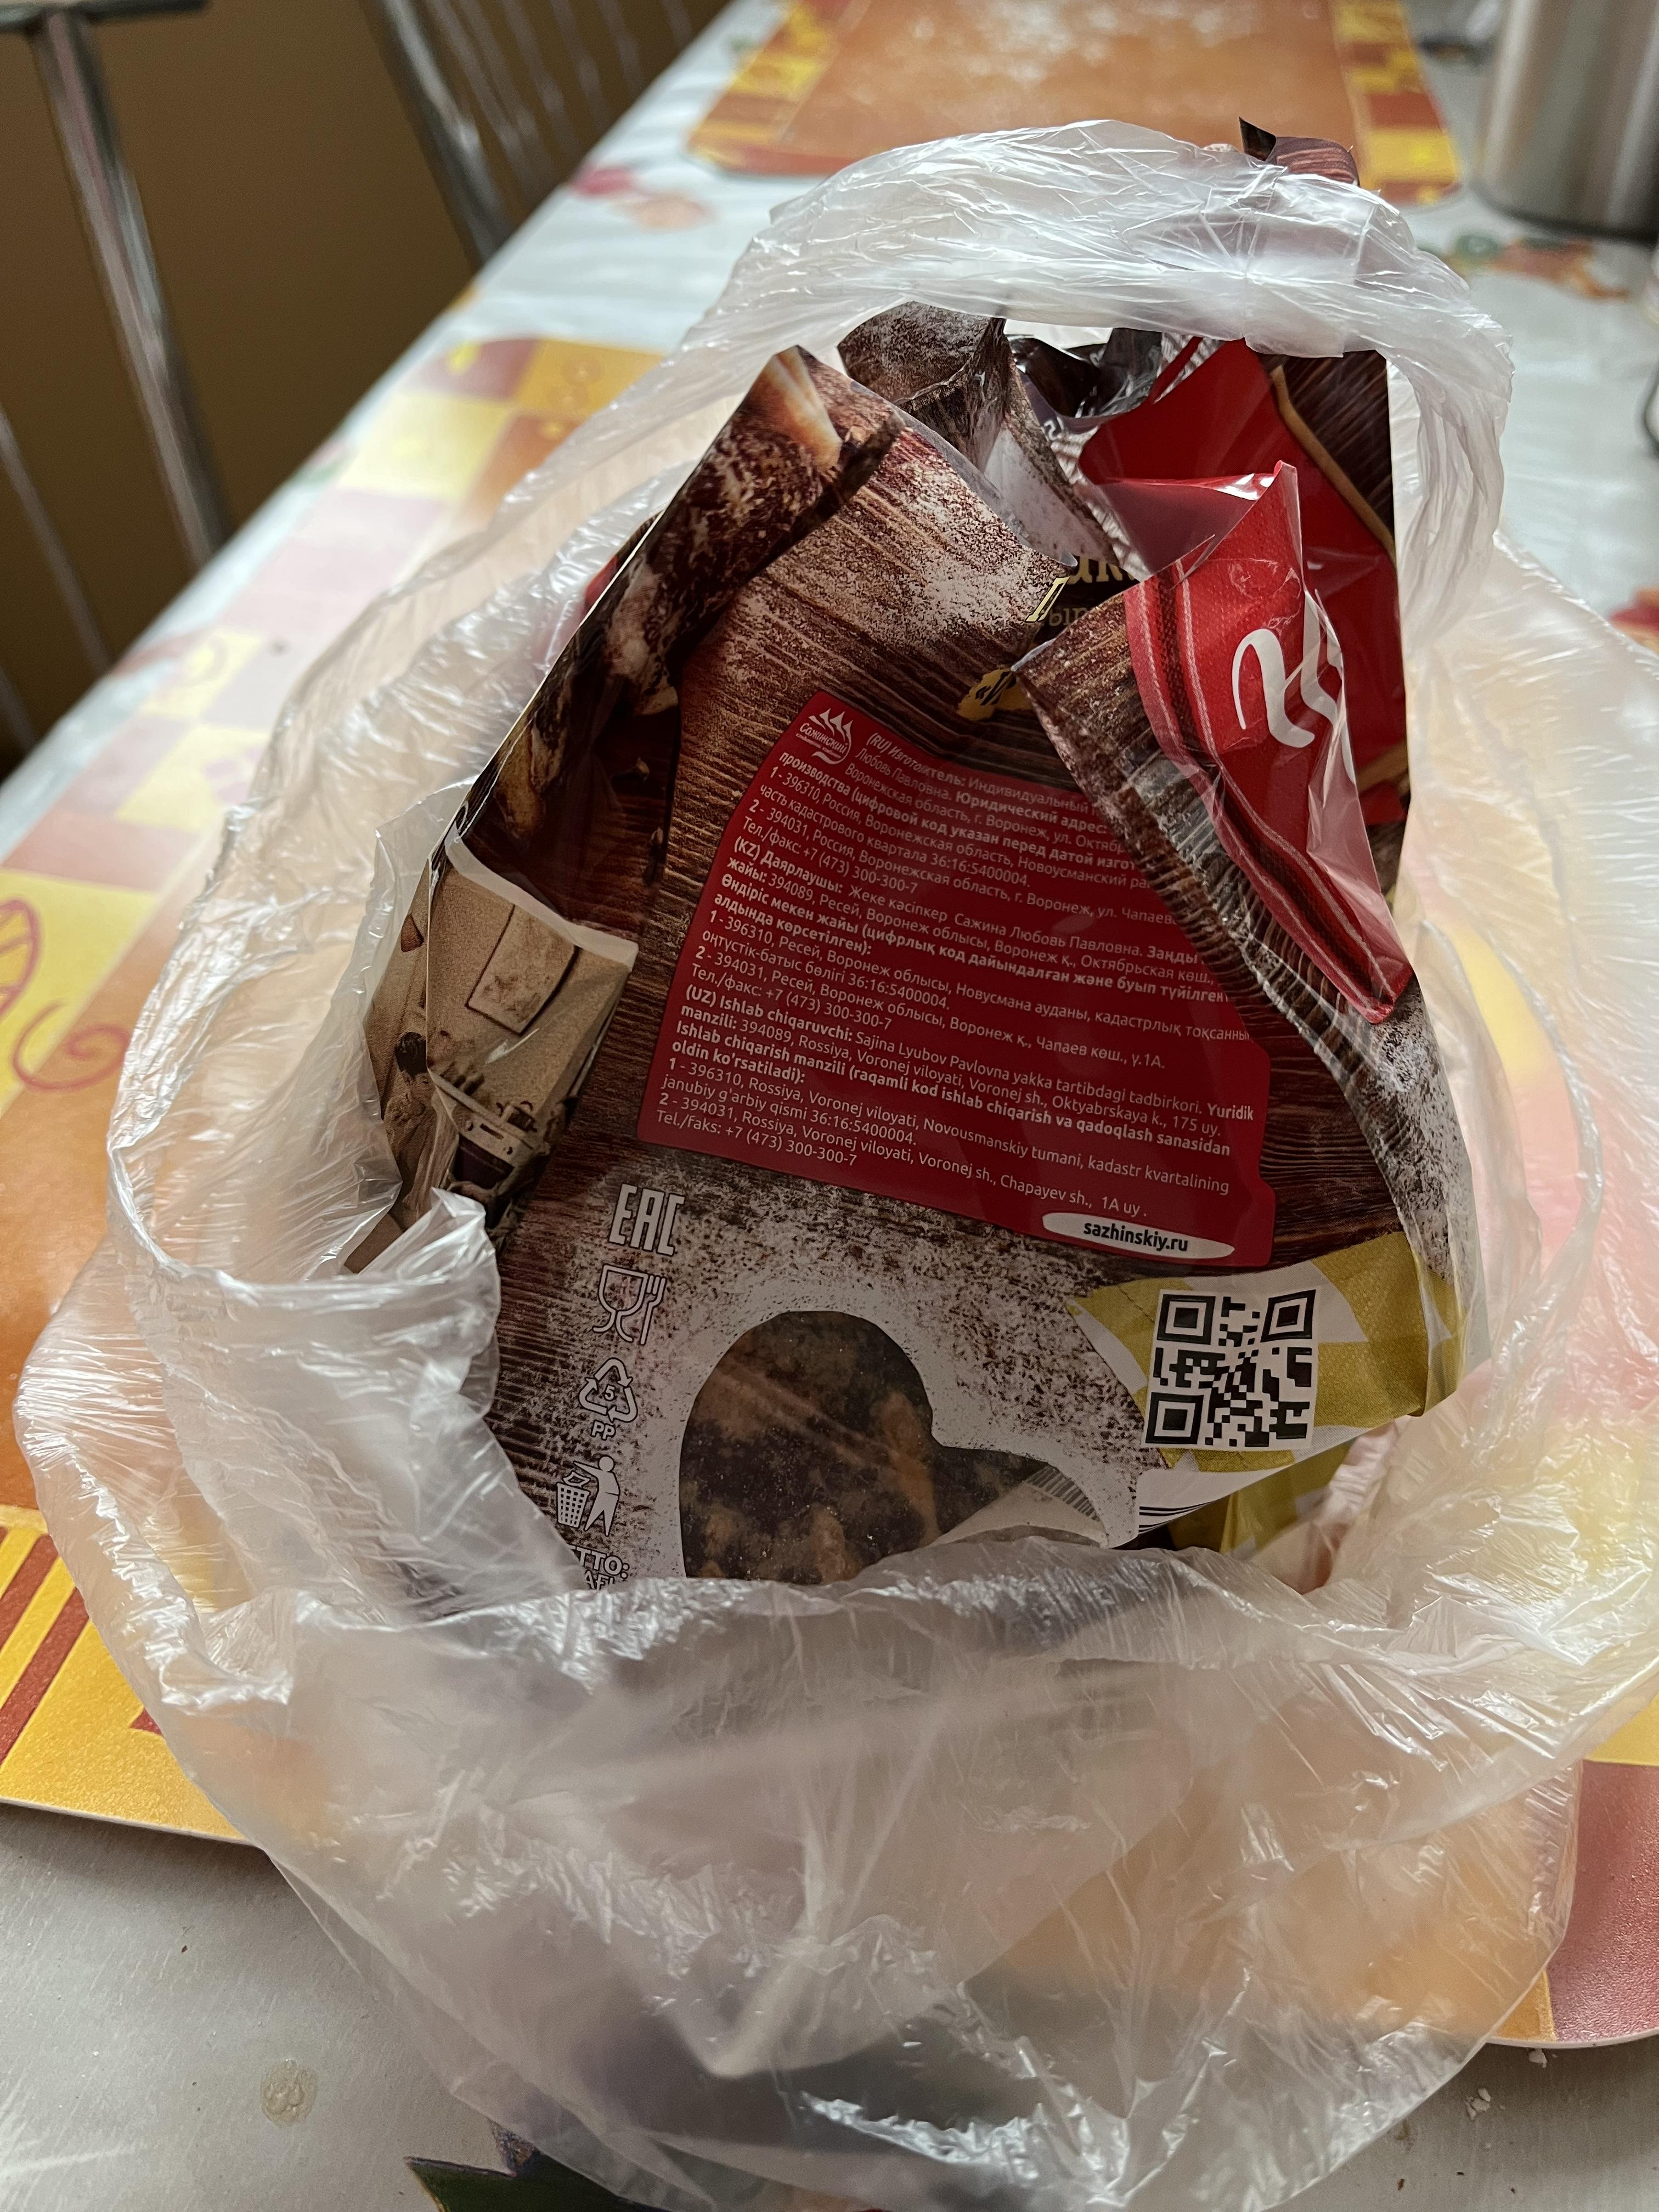qrcode: (1147, 1284, 1319, 1451)
